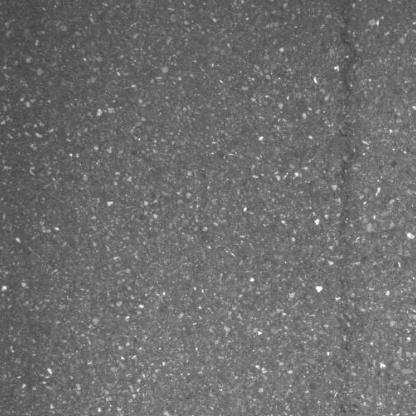Cracks: (335, 0, 367, 328)
